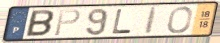9: (84, 7, 110, 37)
B: (24, 9, 56, 38)
I: (143, 6, 160, 35)
L: (111, 8, 134, 34)
O: (166, 5, 194, 34)
P: (53, 8, 82, 37)
